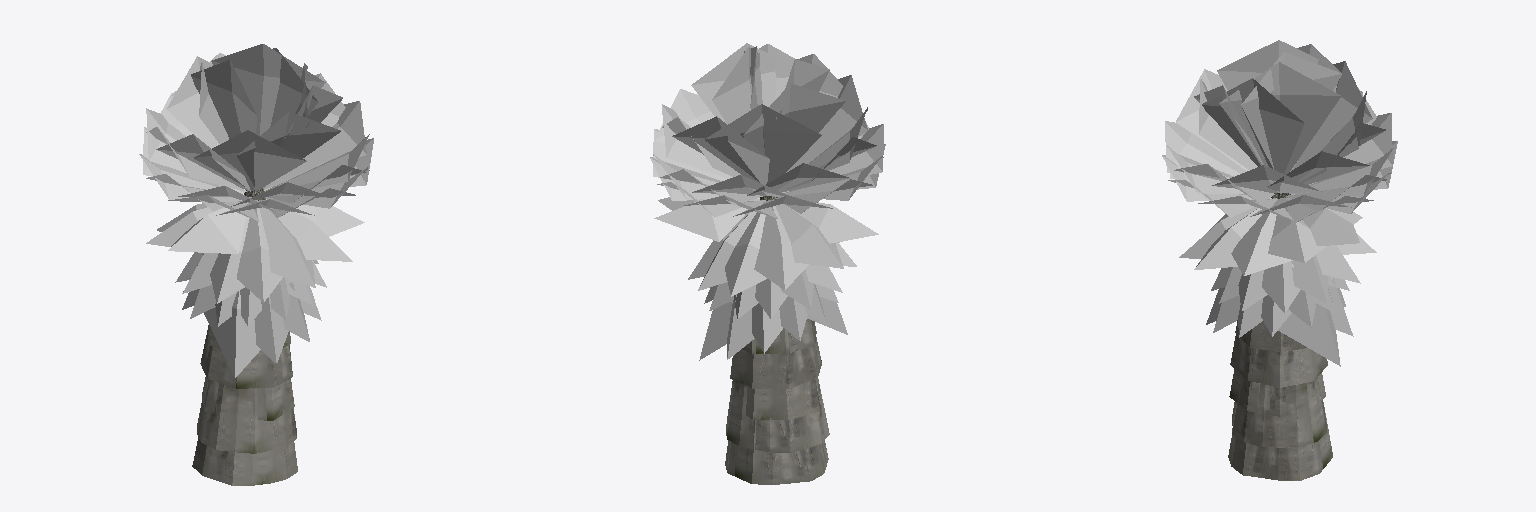
The picture shows the model from 3 angles: view 1: azimuth 30°, elevation 25°; view 2: azimuth 150°, elevation 25°; view 3: azimuth 270°, elevation 25°; orthographic projection.
Visible parts, largest first — view 1: jt1; view 2: jt1; view 3: jt1.
Part boxes in pixels (x1,y1,x2,y2): jt1: (139, 44, 373, 485); jt1: (650, 43, 885, 484); jt1: (1162, 40, 1397, 480).
Bounding box in the file's own units: 0.384 × 0.749 × 0.384.
4 materials, 2 textured.